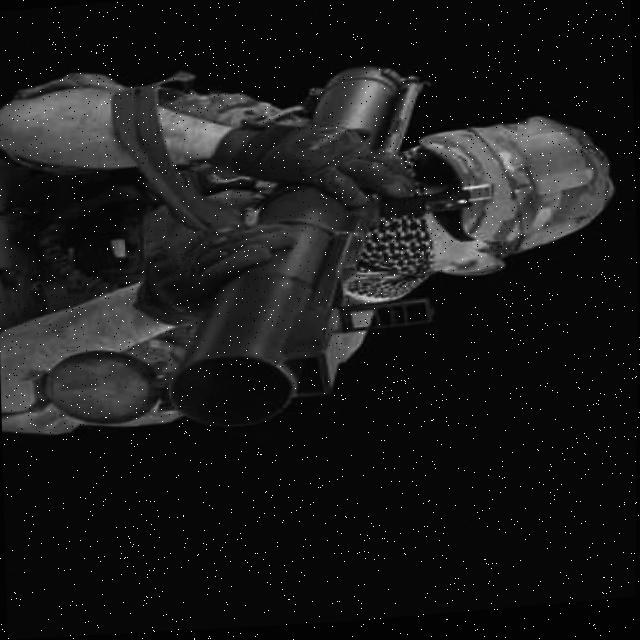rocket: (150, 67, 435, 430)
